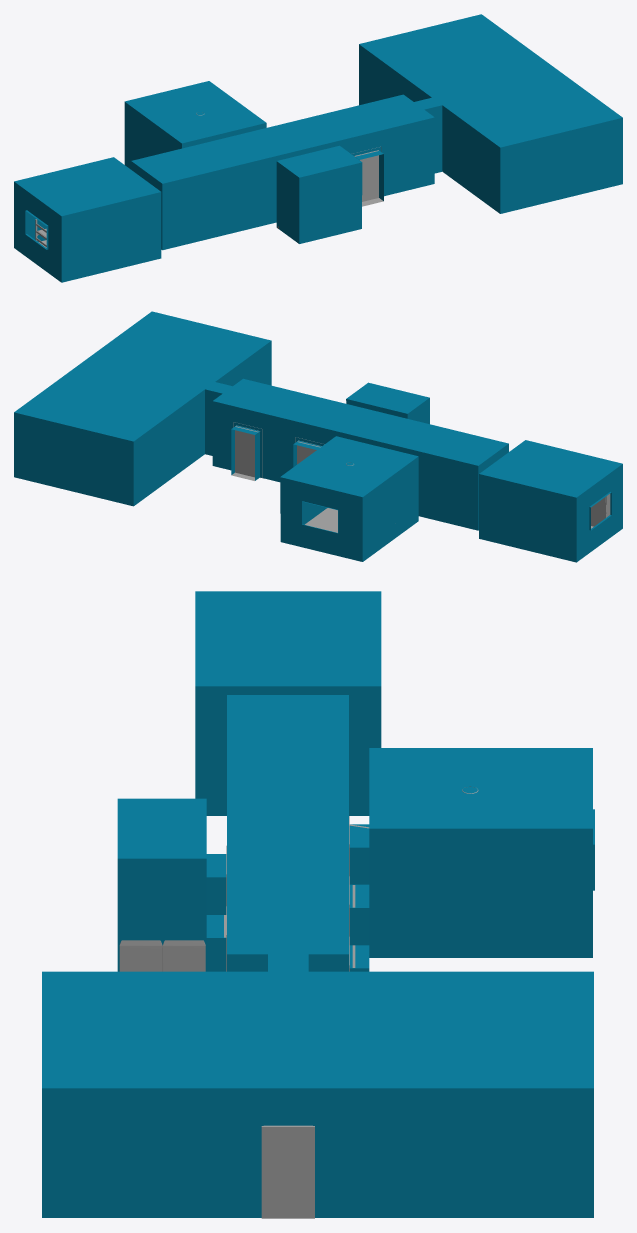
Rendered from dormRoom_6.fbx.
3 views of the same model, one above another, from view 1: azimuth 30°, elevation 25°; view 2: azimuth 150°, elevation 25°; view 3: azimuth 270°, elevation 25° (orthographic). The views are drawn at different scales.
Parts seen in each view (by area): view 1: dormRoom_WITH_Roof, pCube9; view 2: dormRoom_WITH_Roof, pCube8; view 3: dormRoom_WITH_Roof, pCube12, WasherDryer_02:DryerUnit, WasherDryer_02:washerUnit.
Part boxes in pixels (<box>): dormRoom_WITH_Roof: <box>14,14,622,282</box>; pCube9: <box>355,150,378,201</box>; dormRoom_WITH_Roof: <box>14,311,622,562</box>; pCube8: <box>235,426,258,477</box>; dormRoom_WITH_Roof: <box>42,591,594,1217</box>; pCube12: <box>261,1126,314,1218</box>; WasherDryer_02:DryerUnit: <box>119,940,162,971</box>; WasherDryer_02:washerUnit: <box>162,940,205,971</box>.
Size of the model in its own units: 11561 by 1420 by 5398.
